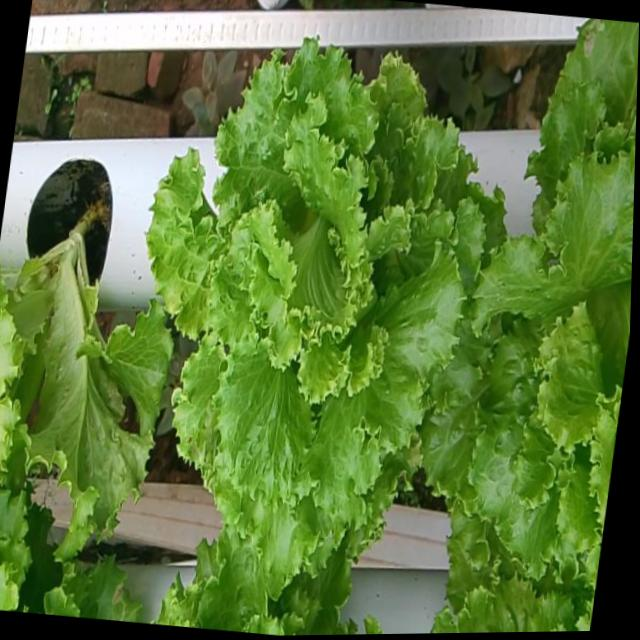Mature: (143, 13, 481, 554), (417, 118, 636, 556)
